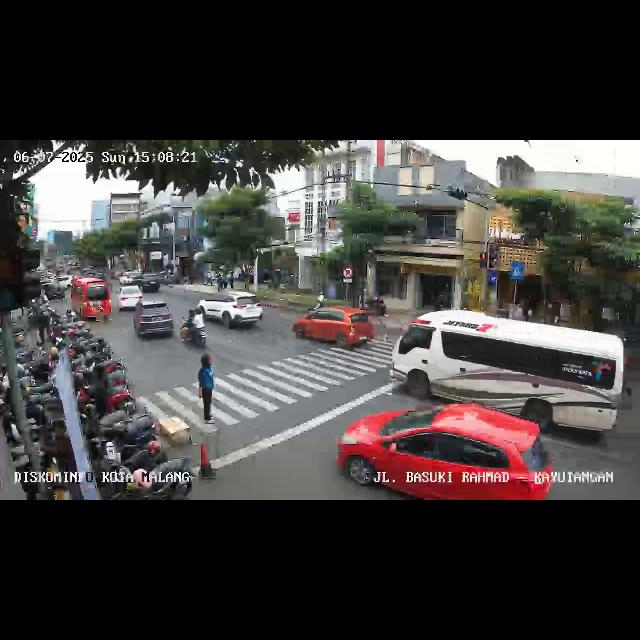car: (388, 304, 626, 441), (338, 402, 554, 500), (294, 304, 374, 354), (200, 292, 264, 332), (68, 276, 112, 324), (132, 301, 176, 344), (118, 285, 144, 309), (137, 272, 163, 294), (41, 280, 68, 300)
motorcycle: (180, 304, 208, 348)
person: (195, 350, 218, 422)
